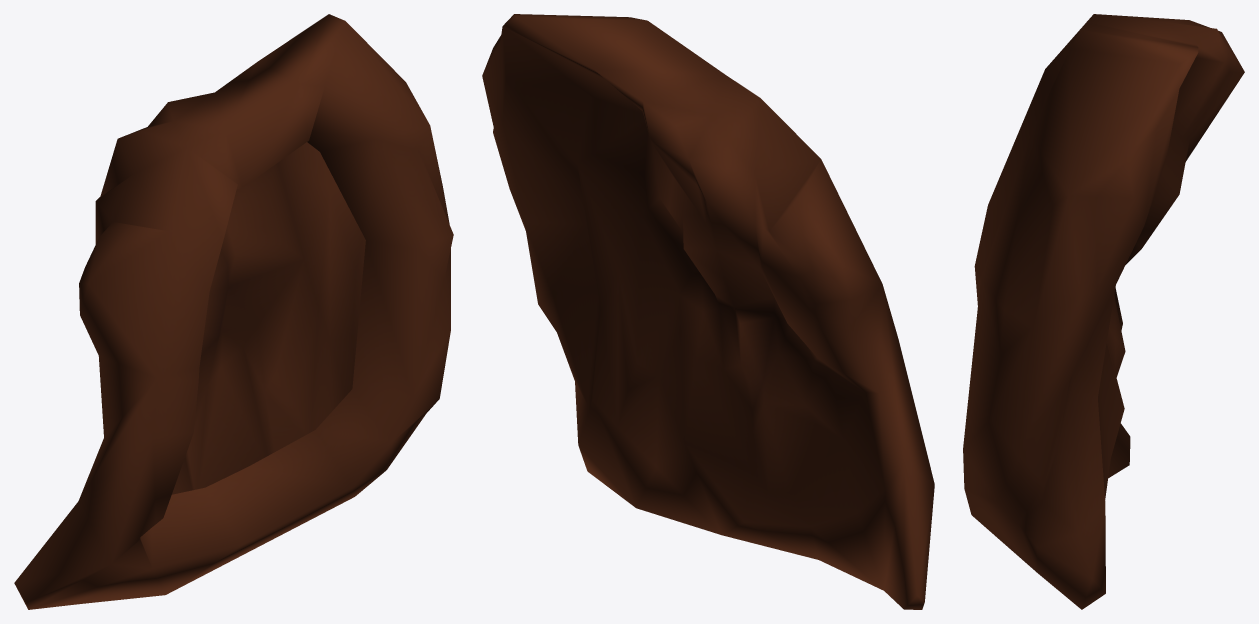
File: env_digsiterock_wall01_lod2.fbx
3 views of the same model, side by side, from view 1: azimuth 30°, elevation 25°; view 2: azimuth 150°, elevation 25°; view 3: azimuth 270°, elevation 25° (orthographic). The views are drawn at different scales.
Parts seen in each view (by area): view 1: env_digsiterock_wall01.003; view 2: env_digsiterock_wall01.003; view 3: env_digsiterock_wall01.003.
Boxes of the visible parts, x1,y1,x2,y2 form: env_digsiterock_wall01.003: (14, 14, 453, 609); env_digsiterock_wall01.003: (482, 14, 934, 609); env_digsiterock_wall01.003: (963, 14, 1244, 609).
Bounding box in the file's own units: 343 × 391 × 160.
